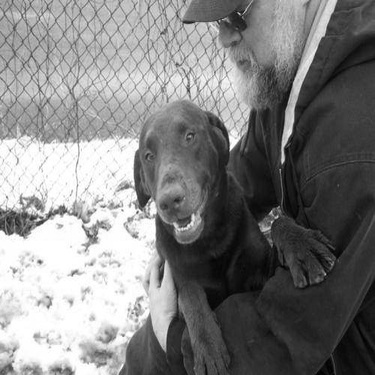dog: (124, 88, 347, 369)
